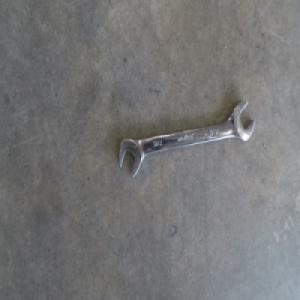Wrench: (112, 100, 249, 177)
